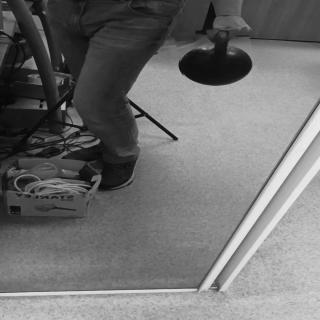kettlebell: (177, 29, 259, 88)
